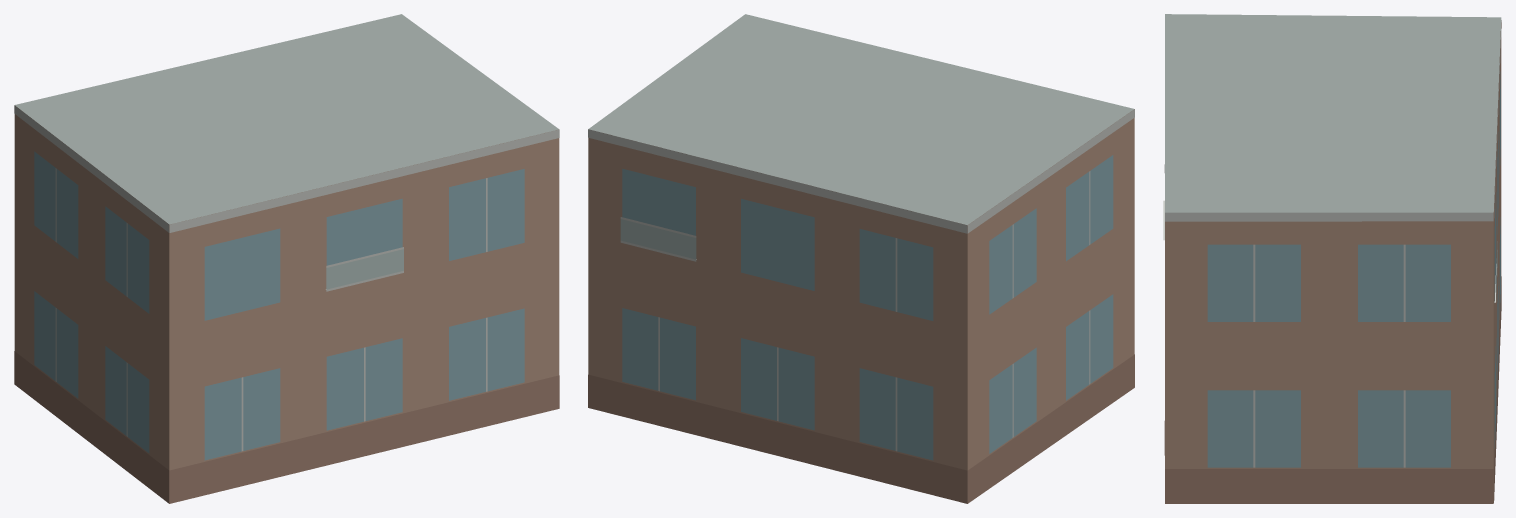
Rendered from survey-upis-32494964.glb.
3 views of the same model, side by side, from view 1: azimuth 30°, elevation 25°; view 2: azimuth 150°, elevation 25°; view 3: azimuth 270°, elevation 25° (orthographic). The views are drawn at different scales.
Parts seen in each view (by area): view 1: survey-upis-32494964.tmp; view 2: survey-upis-32494964.tmp; view 3: survey-upis-32494964.tmp.
Boxes of the visible parts, x1,y1,x2,y2 form: survey-upis-32494964.tmp: [14, 14, 559, 503]; survey-upis-32494964.tmp: [588, 14, 1134, 503]; survey-upis-32494964.tmp: [1163, 14, 1501, 503].
Size of the model in its own units: 11.64 by 7.95 by 8.37.
